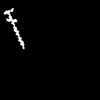double_crochet: (4, 9, 23, 48)
